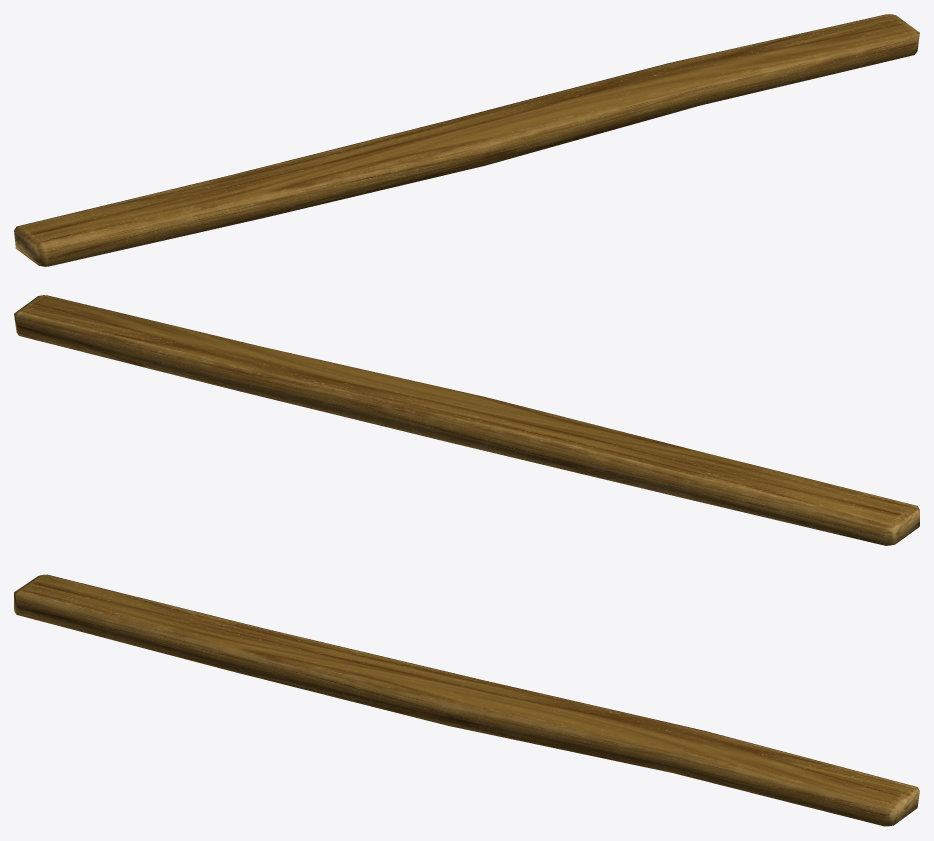
Rendered from Plank1.fbx.
3 views of the same model, one above another, from view 1: azimuth 30°, elevation 25°; view 2: azimuth 150°, elevation 25°; view 3: azimuth 330°, elevation 25° (orthographic).
Visible parts, largest first — view 1: Plank1_LOD0; view 2: Plank1_LOD0; view 3: Plank1_LOD0.
Part boxes in pixels (x1=…): Plank1_LOD0: x1=14, y1=14, x2=919, y2=266; Plank1_LOD0: x1=14, y1=295, x2=919, y2=545; Plank1_LOD0: x1=14, y1=574, x2=919, y2=826.
Bounding box in the file's own units: 150 × 11.06 × 4.38.
Materials: 1 (1 with a texture image).
